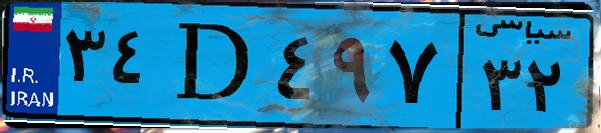2: (525, 38, 570, 115)
3: (57, 26, 110, 100), (475, 38, 525, 113)
4: (270, 28, 330, 110), (110, 28, 158, 98)
7: (385, 28, 445, 110)
9: (330, 28, 385, 110)
D: (158, 12, 270, 120)
